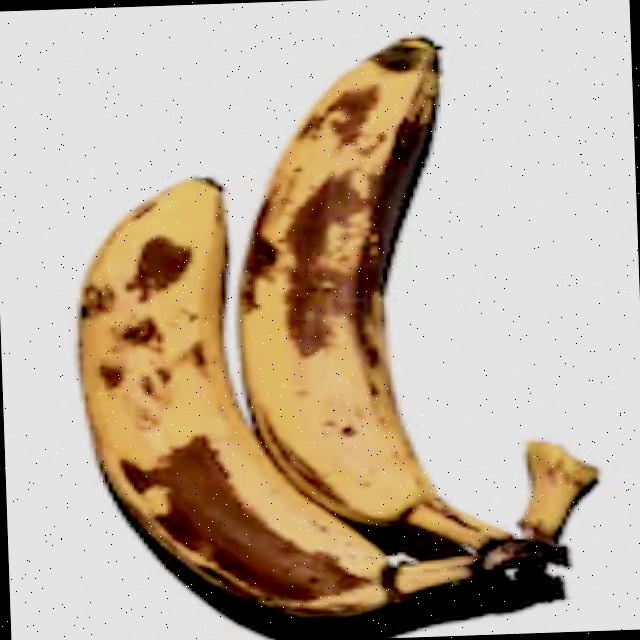rotten banana: (0, 8, 639, 640)
